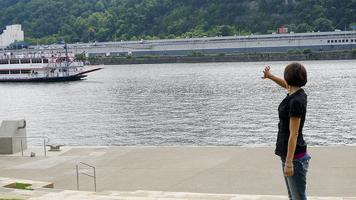person: (263, 64, 312, 200)
